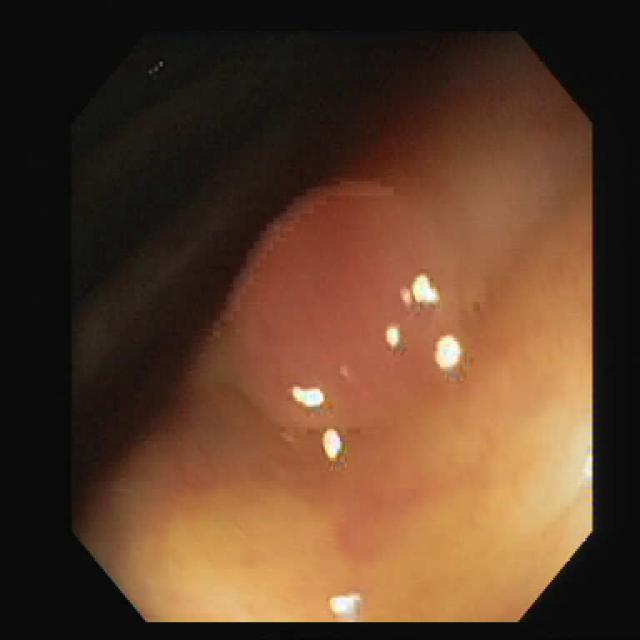tumor: (225, 182, 457, 429)
